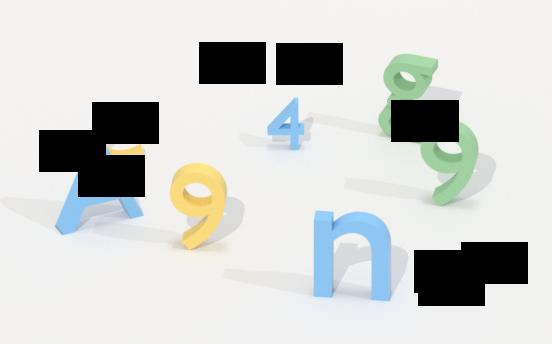4: (261, 93, 311, 153)
9: (415, 114, 480, 209), (168, 161, 231, 255)
A-hoa: (54, 141, 147, 237)
c: (87, 107, 150, 162)
g: (379, 56, 441, 147)
n: (306, 208, 402, 306)
